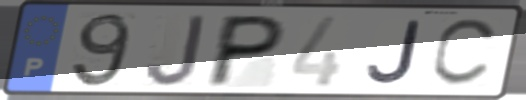4: (286, 14, 345, 90)
9: (68, 11, 136, 90)
C: (427, 16, 503, 90)
J: (142, 12, 209, 89), (364, 18, 424, 87)
P: (201, 12, 291, 90)
